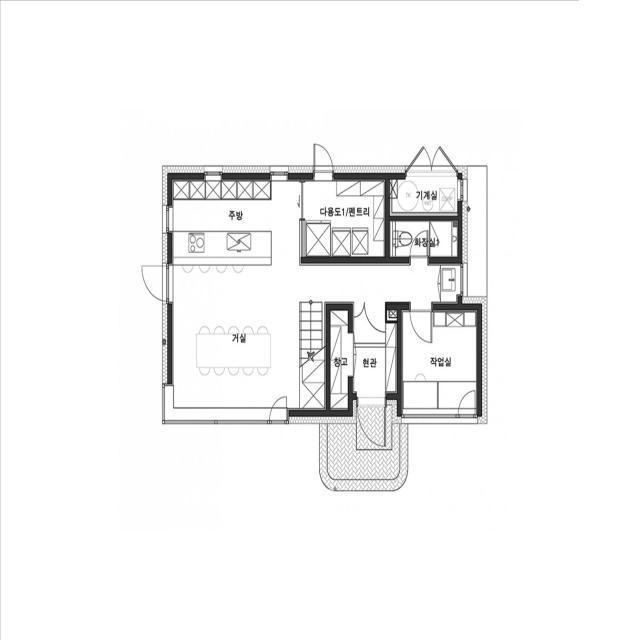space_front: (353, 304, 397, 397)
space_kitchen: (173, 181, 299, 266)
space_living_room: (173, 265, 460, 408)
space_other: (401, 310, 477, 414), (305, 180, 385, 257), (330, 311, 353, 410), (392, 179, 458, 212), (387, 310, 397, 321)
space_staircase: (299, 301, 326, 410)
space_toilet: (390, 220, 458, 257)
